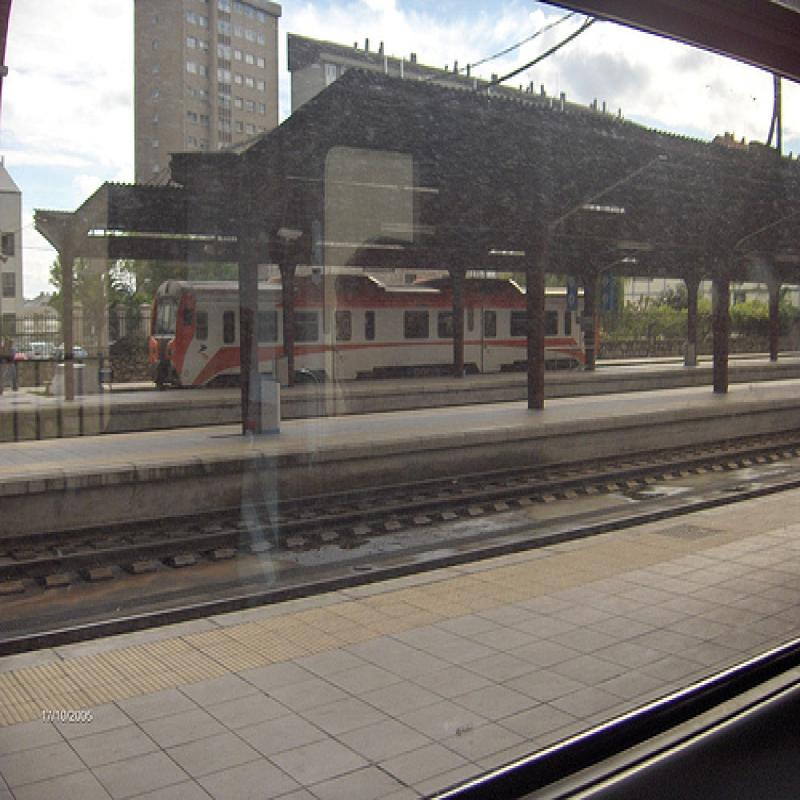train: (147, 267, 601, 390)
